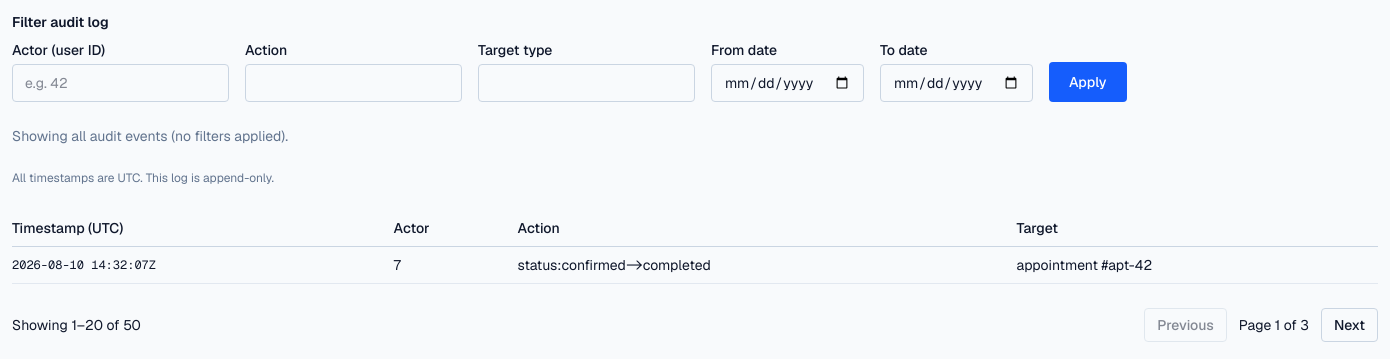
AuditLogViewer › re-fetches with the entered filters, reset to page 1, when Apply is submitted
Expected: the table is shown, 12,210 -> 1378,284
Type "7" into the field labelled "Actor (user ID)" at (120, 83), box 12,64 -> 229,102
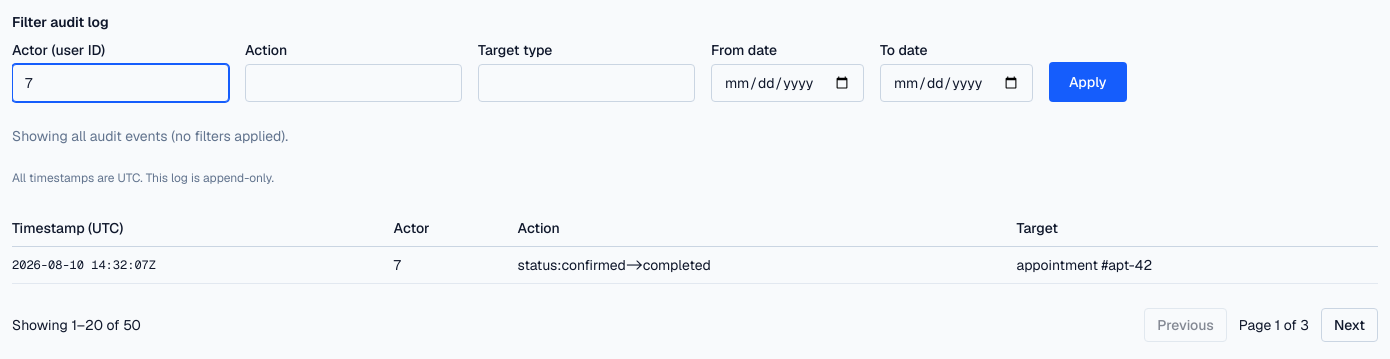
Type "status:confirmed->completed" into the field labelled "Action" at (354, 83), box 245,64 -> 462,102
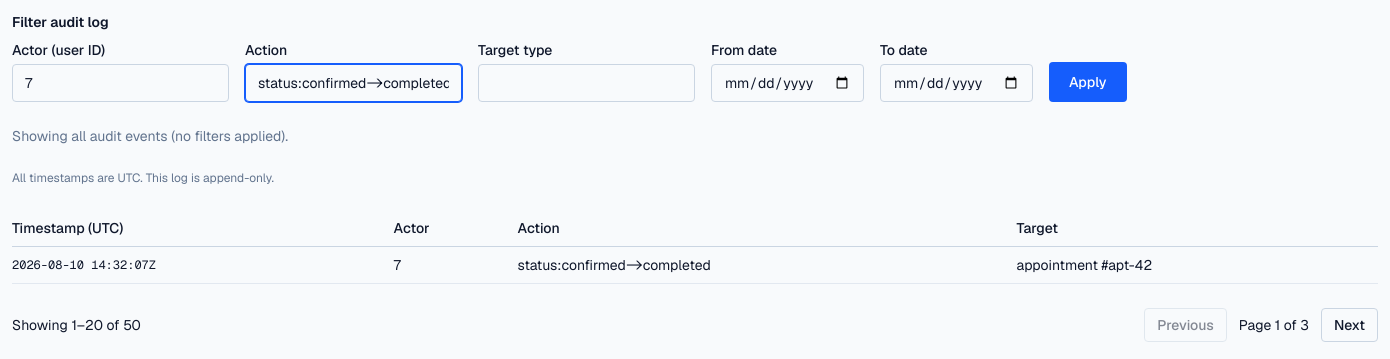
Type "appointment" into the field labelled "Target type" at (586, 83), box 478,64 -> 695,102
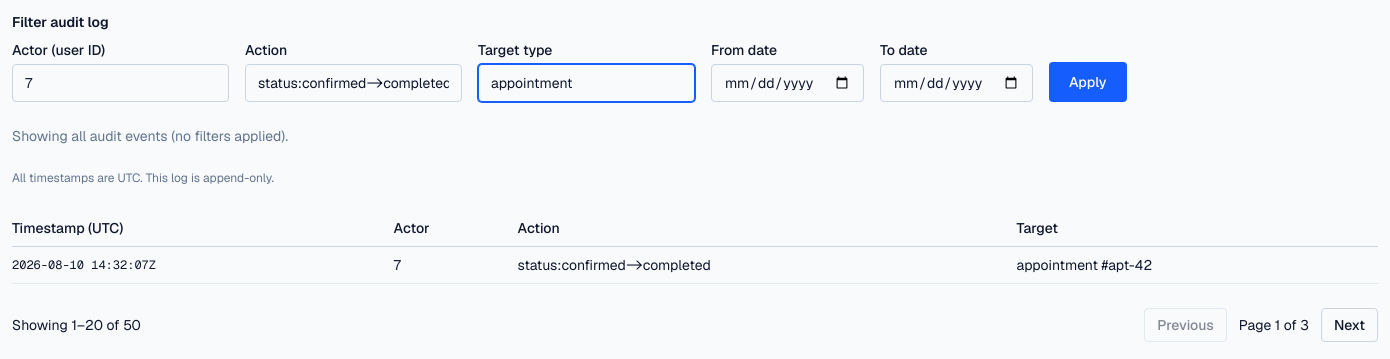
Click the button "Apply" at (1088, 82), box 1049,62 -> 1126,102
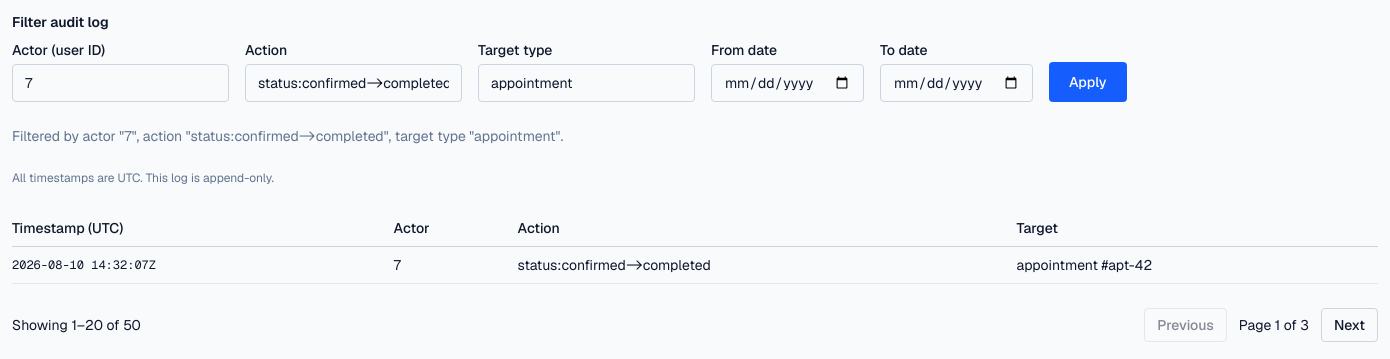
Expected: the text "Filtered by actor \"7\", action" is shown, 12,127 -> 563,145
